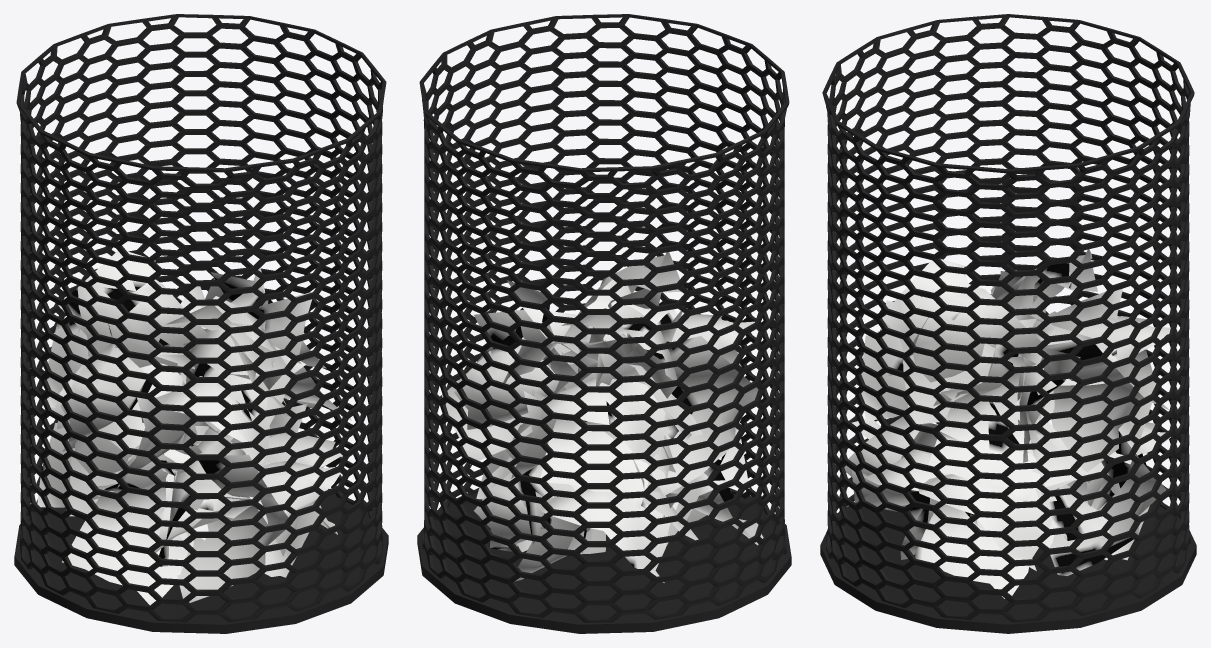
The model's file is trashcan_paper.glb.
3 views of the same model, side by side, from view 1: azimuth 30°, elevation 25°; view 2: azimuth 150°, elevation 25°; view 3: azimuth 270°, elevation 25° (orthographic).
Visible parts, largest first — view 1: Cylinder002; view 2: Cylinder002; view 3: Cylinder002.
Boxes of the visible parts, box(x1,y1,x2,y2) form: Cylinder002: box(14, 14, 388, 633); Cylinder002: box(417, 14, 791, 633); Cylinder002: box(820, 14, 1196, 633).
Bounding box in the file's own units: 0.0515 × 0.07 × 0.0515.
Materials: 2 (2 with a texture image).
